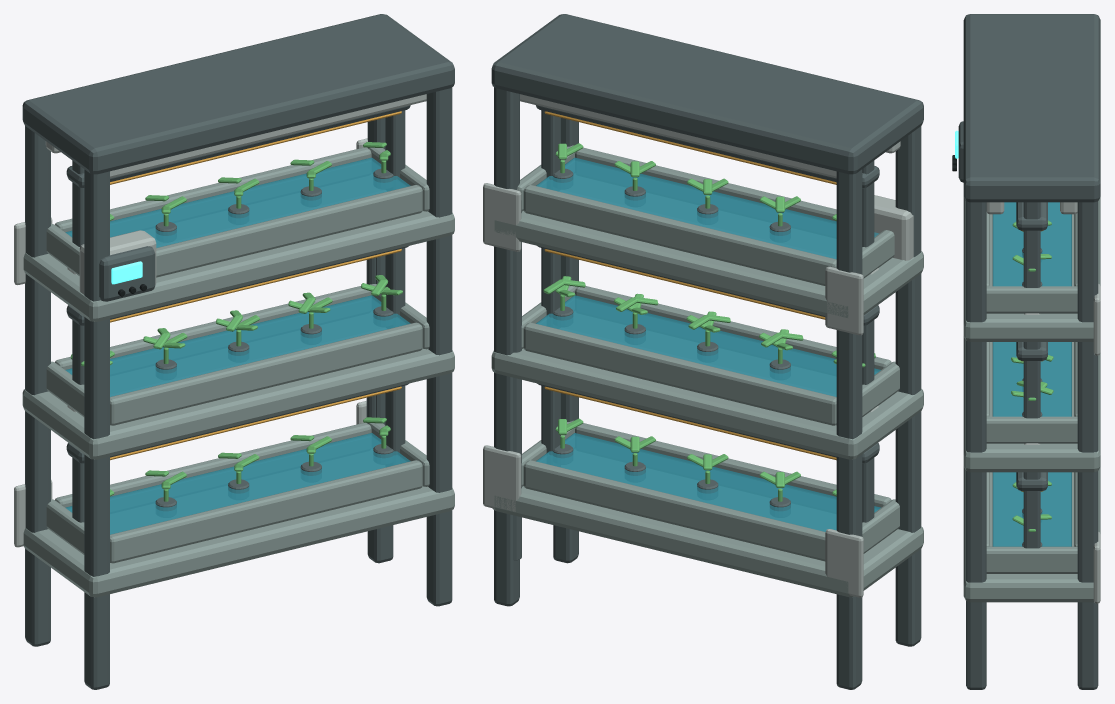
Rendered from Étagère hydroponique murale.glb.
3 renders of one model, left to right at view 1: azimuth 30°, elevation 25°; view 2: azimuth 150°, elevation 25°; view 3: azimuth 270°, elevation 25°, orthographic. The views are drawn at different scales.
Parts seen in each view (by area): view 1: 02_wall_hydroponic_rack_Structural_Roof, 02_wall_hydroponic_rack_Shelf_2, 02_wall_hydroponic_rack_Shelf_1, 02_wall_hydroponic_rack_Shelf_3, 02_wall_hydroponic_rack_Post_1_-1, 02_wall_hydroponic_rack_Post_-1_-1, 02_wall_hydroponic_rack_Post_-1_1, 02_wall_hydroponic_rack_Tray_1_Water_Surface, 02_wall_hydroponic_rack_Tray_2_Water_Surface, 02_wall_hydroponic_rack_Tray_1_Wall_Front, 02_wall_hydroponic_rack_Tray_2_Wall_Front, 02_wall_hydroponic_rack_Tray_3_Water_Surface (+27 smaller); view 2: 02_wall_hydroponic_rack_Structural_Roof, 02_wall_hydroponic_rack_Shelf_2, 02_wall_hydroponic_rack_Shelf_1, 02_wall_hydroponic_rack_Shelf_3, 02_wall_hydroponic_rack_Post_-1_-1, 02_wall_hydroponic_rack_Post_-1_1, 02_wall_hydroponic_rack_Tray_3_Water_Surface, 02_wall_hydroponic_rack_Tray_1_Water_Surface, 02_wall_hydroponic_rack_Tray_2_Water_Surface, 02_wall_hydroponic_rack_Tray_2_Wall_Rear, 02_wall_hydroponic_rack_Tray_3_Wall_Rear, 02_wall_hydroponic_rack_Tray_1_Wall_Rear (+27 smaller); view 3: 02_wall_hydroponic_rack_Structural_Roof, 02_wall_hydroponic_rack_Post_1_1, 02_wall_hydroponic_rack_Post_1_-1, 02_wall_hydroponic_rack_Shelf_2, 02_wall_hydroponic_rack_Tray_3_Water_Surface, 02_wall_hydroponic_rack_Shelf_3, 02_wall_hydroponic_rack_Shelf_1, 02_wall_hydroponic_rack_Tray_1_Water_Surface, 02_wall_hydroponic_rack_Tray_2_Water_Surface, 02_wall_hydroponic_rack_Tray_3_Wall_Right, 02_wall_hydroponic_rack_Tray_2_Wall_Right, 02_wall_hydroponic_rack_Tray_1_Wall_Right (+15 smaller).
Boxes of the visible parts, x1,y1,x2,y2 form: 02_wall_hydroponic_rack_Structural_Roof: (22, 14, 454, 174); 02_wall_hydroponic_rack_Shelf_2: (22, 348, 454, 459); 02_wall_hydroponic_rack_Shelf_1: (23, 486, 454, 597); 02_wall_hydroponic_rack_Shelf_3: (23, 211, 454, 321); 02_wall_hydroponic_rack_Post_1_-1: (426, 87, 452, 606); 02_wall_hydroponic_rack_Post_-1_-1: (84, 145, 109, 689); 02_wall_hydroponic_rack_Post_-1_1: (25, 98, 50, 646); 02_wall_hydroponic_rack_Tray_1_Water_Surface: (65, 433, 410, 534); 02_wall_hydroponic_rack_Tray_2_Water_Surface: (65, 295, 410, 396); 02_wall_hydroponic_rack_Tray_1_Wall_Front: (110, 460, 422, 563); 02_wall_hydroponic_rack_Tray_2_Wall_Front: (110, 322, 422, 425); 02_wall_hydroponic_rack_Tray_3_Water_Surface: (65, 157, 410, 247); 02_wall_hydroponic_rack_Structural_Roof: (491, 14, 923, 174); 02_wall_hydroponic_rack_Shelf_2: (491, 348, 923, 459); 02_wall_hydroponic_rack_Shelf_1: (492, 486, 923, 597); 02_wall_hydroponic_rack_Shelf_3: (494, 211, 923, 317); 02_wall_hydroponic_rack_Post_-1_-1: (895, 101, 921, 646); 02_wall_hydroponic_rack_Post_-1_1: (836, 169, 862, 689); 02_wall_hydroponic_rack_Tray_3_Water_Surface: (536, 157, 878, 259); 02_wall_hydroponic_rack_Tray_1_Water_Surface: (536, 433, 880, 531); 02_wall_hydroponic_rack_Tray_2_Water_Surface: (536, 295, 880, 396); 02_wall_hydroponic_rack_Tray_2_Wall_Rear: (523, 322, 836, 425); 02_wall_hydroponic_rack_Tray_3_Wall_Rear: (523, 185, 836, 285); 02_wall_hydroponic_rack_Tray_1_Wall_Rear: (523, 460, 825, 561); 02_wall_hydroponic_rack_Structural_Roof: (963, 14, 1100, 202); 02_wall_hydroponic_rack_Post_1_1: (1077, 174, 1098, 689); 02_wall_hydroponic_rack_Post_1_-1: (966, 176, 986, 689); 02_wall_hydroponic_rack_Shelf_2: (963, 336, 1100, 472); 02_wall_hydroponic_rack_Tray_3_Water_Surface: (992, 202, 1071, 286); 02_wall_hydroponic_rack_Shelf_3: (963, 197, 1100, 341); 02_wall_hydroponic_rack_Shelf_1: (963, 466, 1100, 602); 02_wall_hydroponic_rack_Tray_1_Water_Surface: (992, 472, 1071, 546); 02_wall_hydroponic_rack_Tray_2_Water_Surface: (992, 342, 1071, 416); 02_wall_hydroponic_rack_Tray_3_Wall_Right: (986, 286, 1077, 313); 02_wall_hydroponic_rack_Tray_2_Wall_Right: (986, 416, 1077, 443); 02_wall_hydroponic_rack_Tray_1_Wall_Right: (986, 546, 1077, 573).
Bounding box in the file's own units: 1.82 × 2.48 × 0.65.
